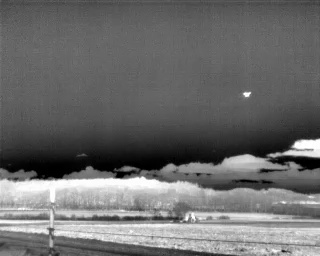DRONE: (240, 88, 254, 101)
